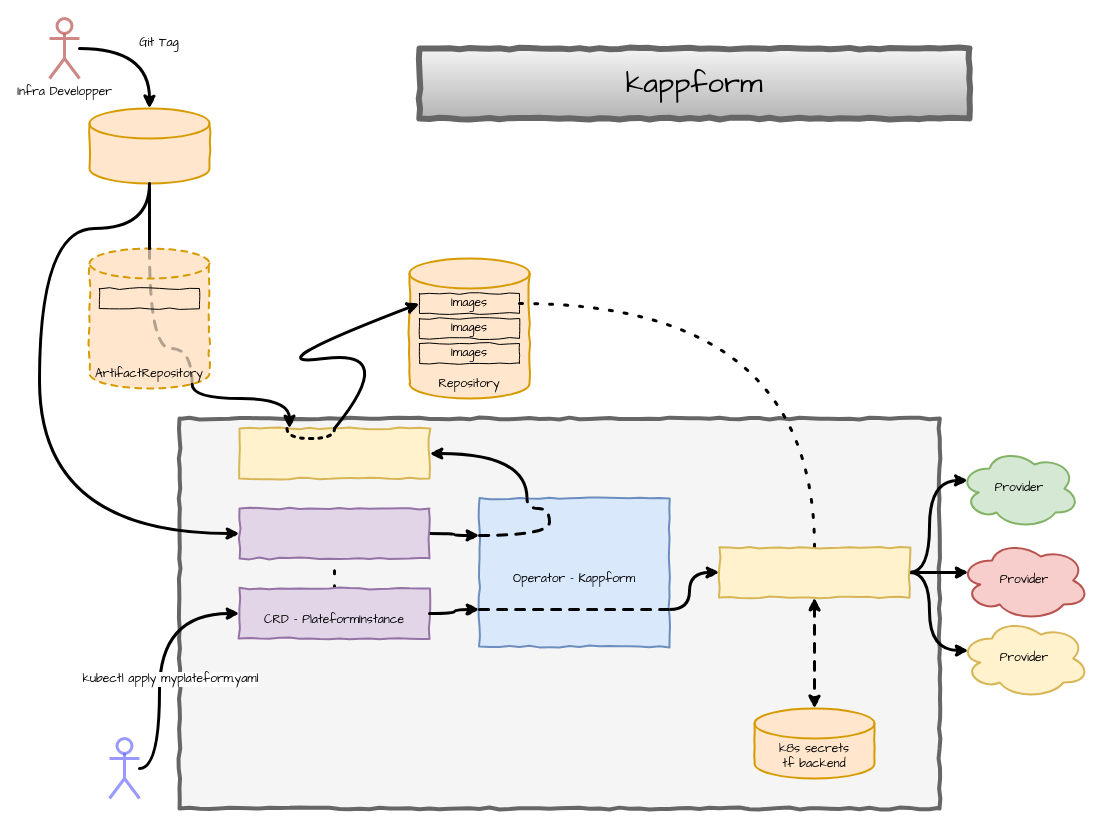
The diagram is 1108 pixels wide and 837 high, and some of its shapes have lost their labels. The box of each missing label's shape, as (x1, y1, x2, y2) in pixels:
CRD - Model: (238, 507, 430, 559)
DevOps: (108, 736, 140, 800)
Git: (88, 107, 210, 184)
Job - Model2image: (238, 427, 430, 479)
Job - Terraform: (718, 546, 910, 598)
K8s Cluster: (177, 416, 941, 810)
terraform zip: (98, 288, 200, 308)
